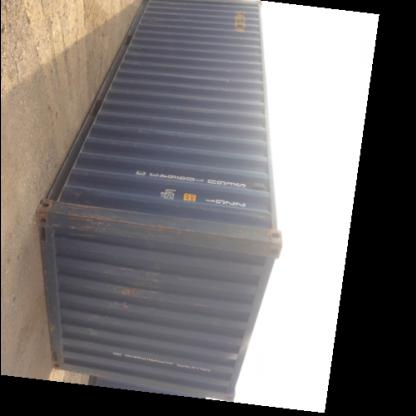Damage: (64, 204, 178, 240), (102, 268, 166, 312), (228, 228, 276, 263), (216, 42, 240, 106)
